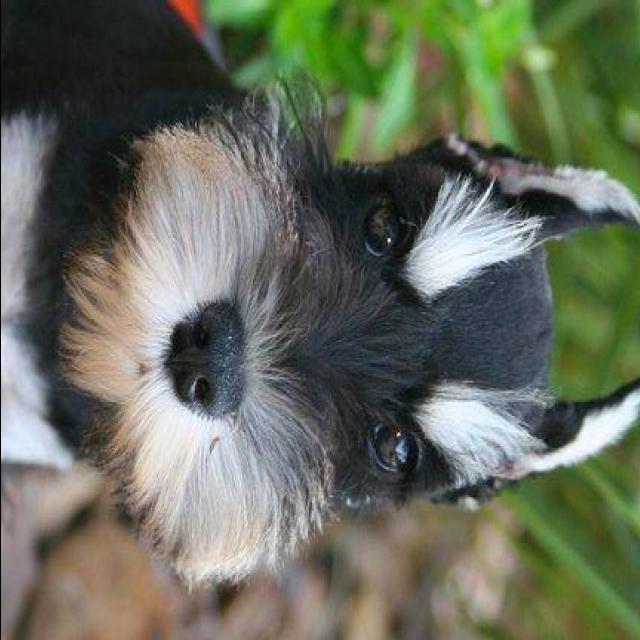standard_schnauzer: (2, 4, 638, 592)
